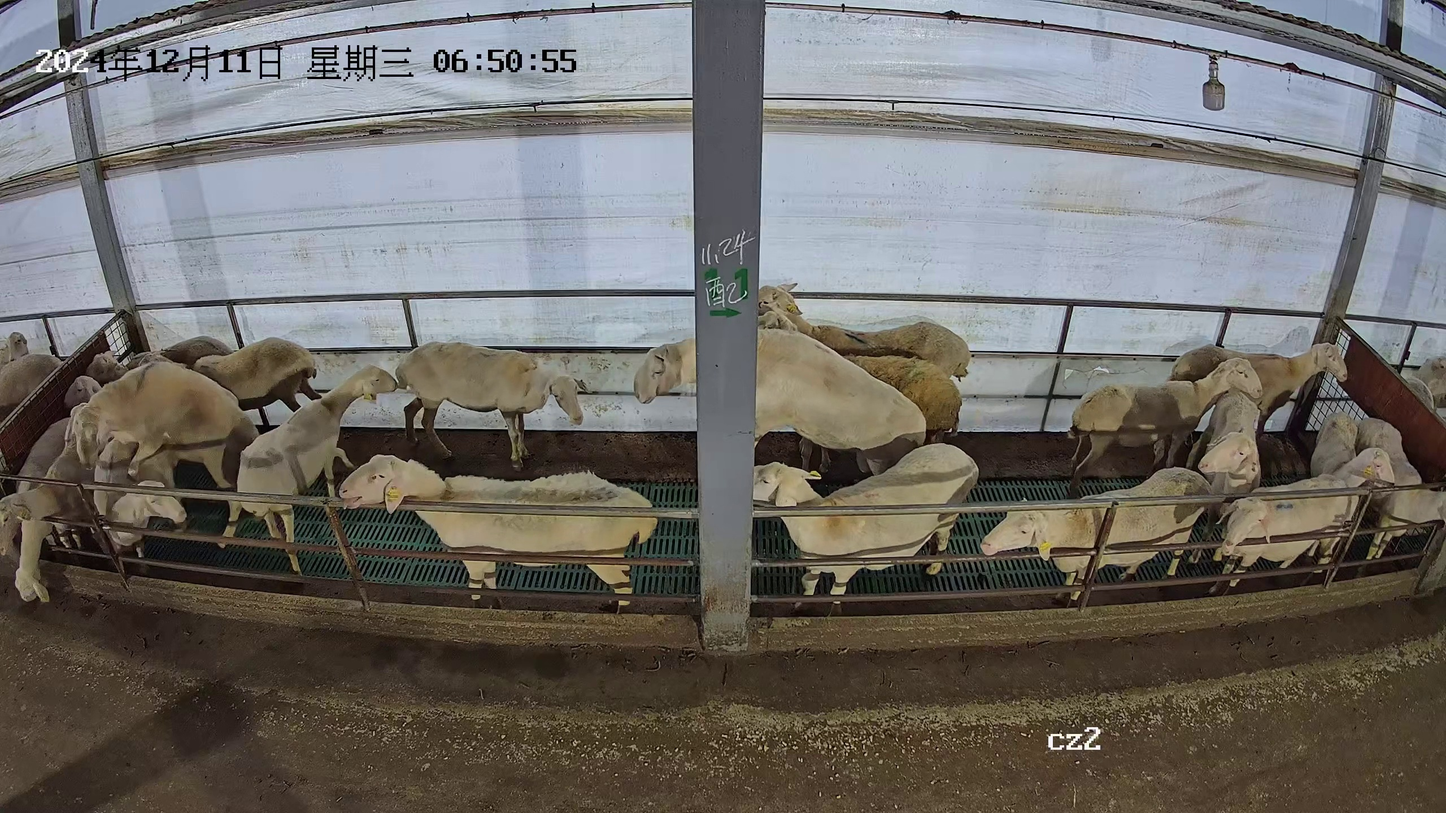Smounting: (64, 360, 242, 575)
mounted: (87, 434, 188, 572)
